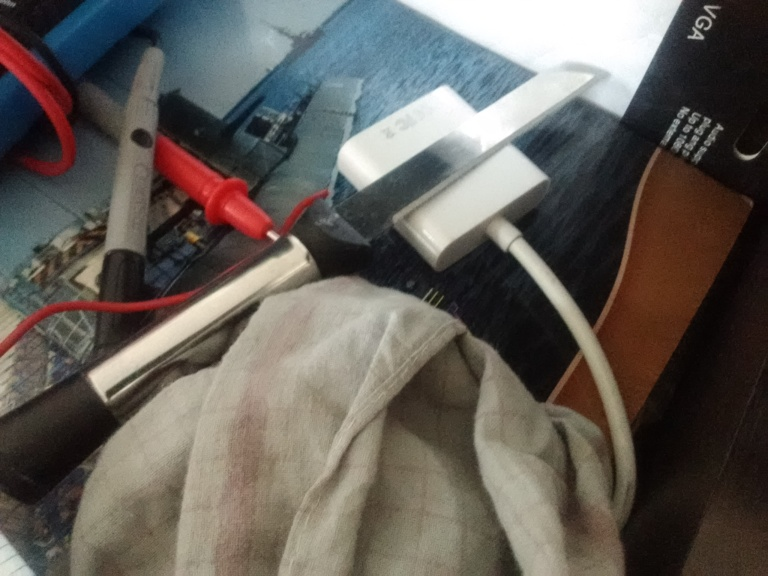knife: (1, 57, 614, 517)
